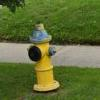a fire hydrant: (26, 29, 60, 94)
